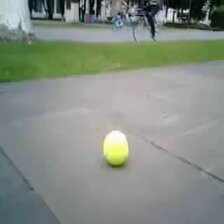tennis: (103, 131, 129, 167)
